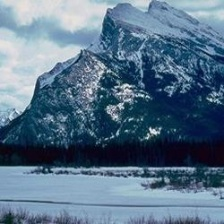neutral: (2, 2, 224, 196)
